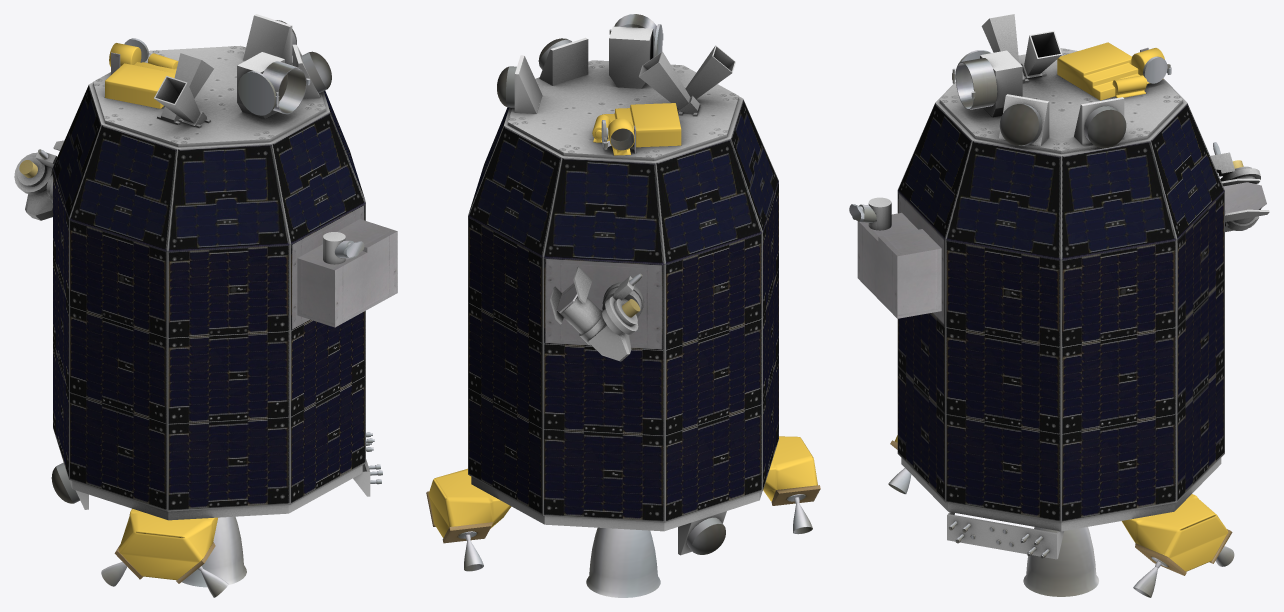
File: ladee.glb
3 views of the same model, side by side, from view 1: azimuth 30°, elevation 25°; view 2: azimuth 150°, elevation 25°; view 3: azimuth 270°, elevation 25° (orthographic).
Parts seen in each view (by area): view 1: shiny_panel, AO_parts_01, tex_01, foil_gold, AO_parts_02; view 2: shiny_panel, AO_parts_01, tex_01, foil_gold, AO_parts_02; view 3: shiny_panel, tex_01, AO_parts_01, foil_gold, AO_parts_02.
Part boxes in pixels (x1,y1,x2,y2): shiny_panel: (53,85,365,511); AO_parts_01: (14,45,362,520); tex_01: (19,20,397,597); foil_gold: (105,43,217,580); AO_parts_02: (75,14,370,583); shiny_panel: (468,99,778,522); AO_parts_01: (471,45,762,531); tex_01: (458,14,812,597); foil_gold: (428,103,817,537); AO_parts_02: (426,26,820,555); shiny_panel: (897,103,1224,522); tex_01: (849,47,1266,597); AO_parts_01: (901,14,1269,531); foil_gold: (895,42,1228,571); AO_parts_02: (868,50,1232,575).
Bounding box in the file's own units: 1.18 × 1.97 × 1.4.
7 materials, 5 textured.
